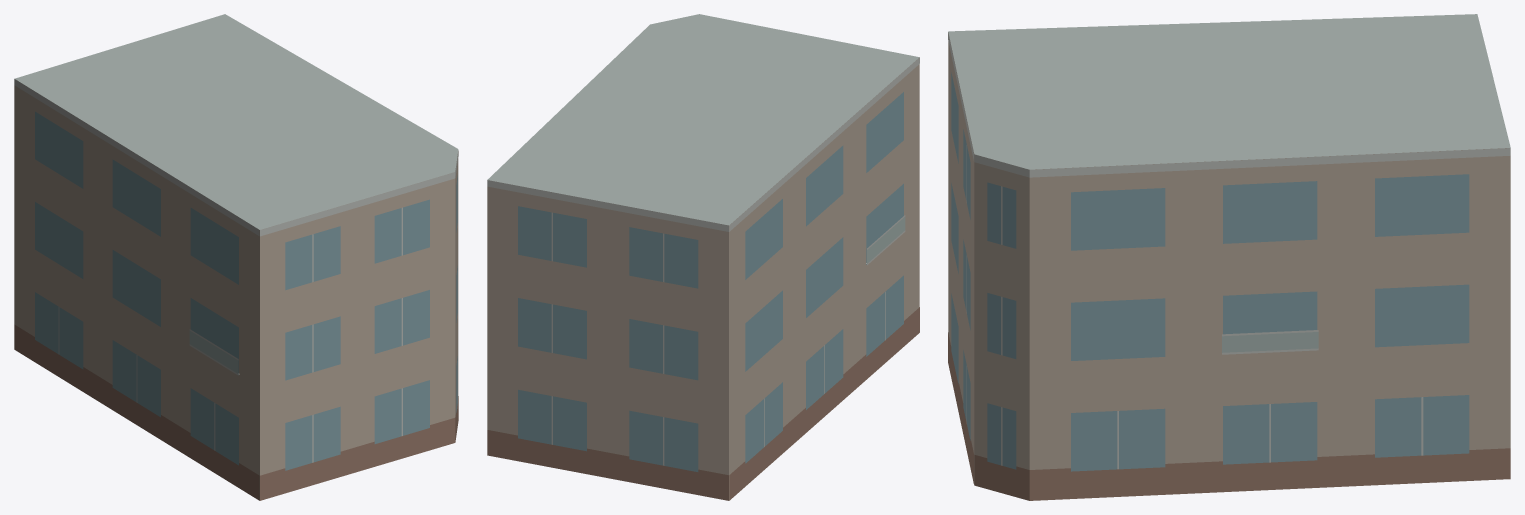
Rendered from survey-upis-33037322.glb.
3 views of the same model, side by side, from view 1: azimuth 30°, elevation 25°; view 2: azimuth 150°, elevation 25°; view 3: azimuth 270°, elevation 25° (orthographic). The views are drawn at different scales.
Visible parts, largest first — view 1: survey-upis-33037322.tmp; view 2: survey-upis-33037322.tmp; view 3: survey-upis-33037322.tmp.
Boxes of the visible parts, x1,y1,x2,y2 form: survey-upis-33037322.tmp: (14,14,458,500); survey-upis-33037322.tmp: (487,14,919,500); survey-upis-33037322.tmp: (948,14,1510,500).
Bounding box in the file's own units: 10.29 × 10.2 × 15.72.
